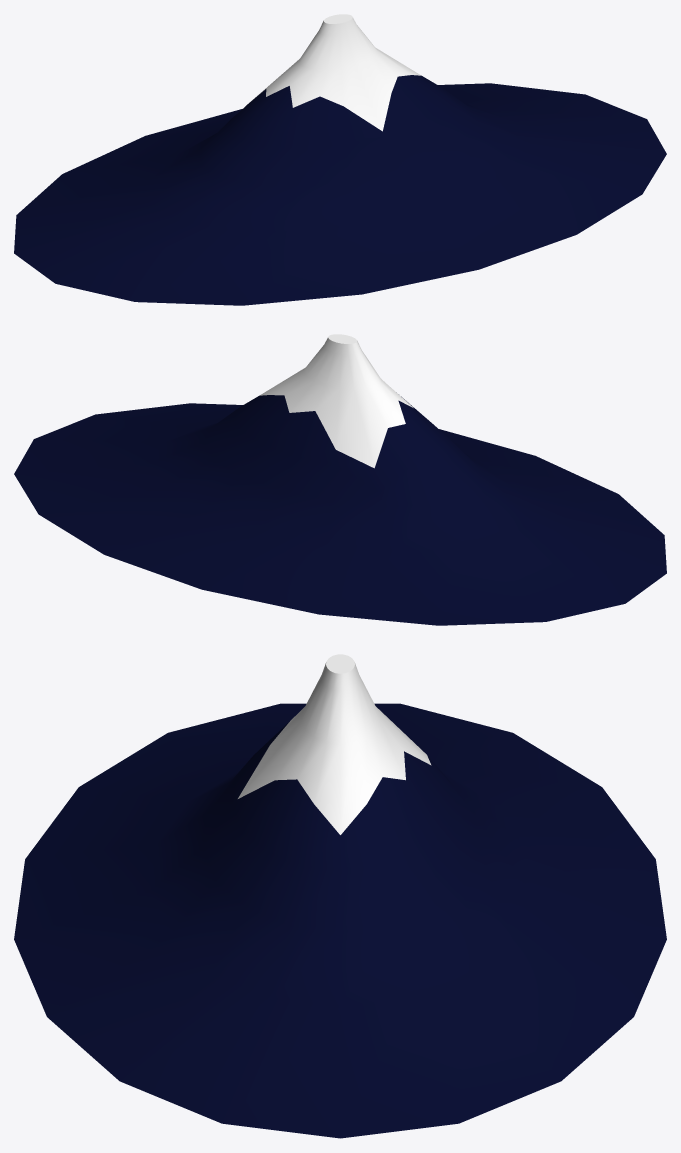
Rendered from Fuji Mountain.FBX.
3 views of the same model, one above another, from view 1: azimuth 30°, elevation 25°; view 2: azimuth 150°, elevation 25°; view 3: azimuth 270°, elevation 25° (orthographic). The views are drawn at different scales.
Parts seen in each view (by area): view 1: Cylinder001; view 2: Cylinder001; view 3: Cylinder001.
Boxes of the visible parts, box(x1,y1,x2,y2) form: Cylinder001: box(14, 14, 666, 305); Cylinder001: box(14, 334, 666, 625); Cylinder001: box(14, 654, 666, 1138).
Size of the model in its own units: 293 by 80.33 by 186.
